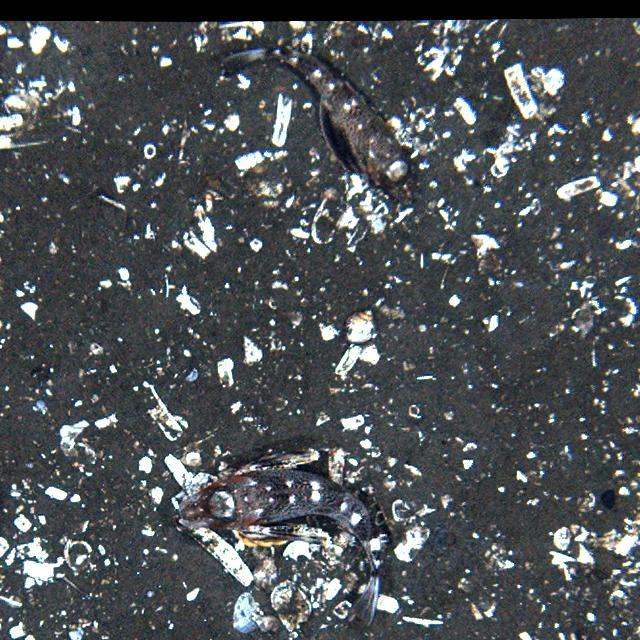roundfish: (181, 450, 387, 628), (219, 45, 419, 206)
